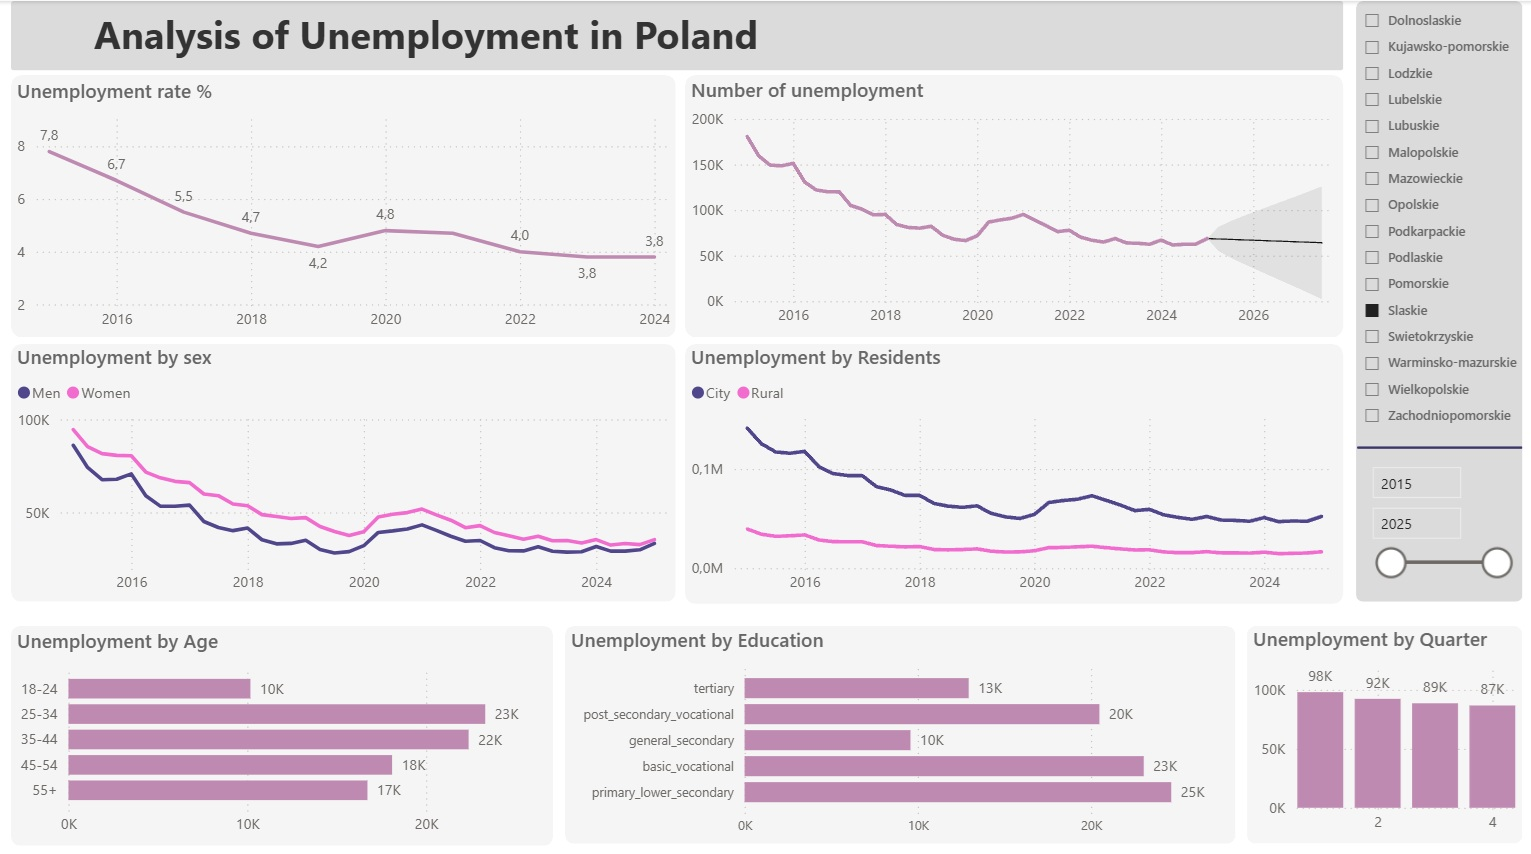

The dashboard page shown, as its layout file describes it:
{"tool":"powerbi","page":{"name":"Dashboard","canvas":[1280,720],"ordinal":0},"visuals":[{"type":"shape","box":[1132.7,0,139.1,501.8],"z":0},{"type":"shape","box":[9.1,521.8,452.7,183.6],"z":1000},{"type":"shape","box":[1041.8,521.8,230,181.8],"z":2000},{"type":"shape","box":[471.8,521.8,560,181.8],"z":3000},{"type":"shape","box":[9.1,0,1112.7,58.2],"z":4000},{"type":"shape","box":[571.9,62.1,549.8,219],"z":5000},{"type":"clusteredColumnChart","title":"Unemployment by Quarter","fields":{"Category":["General.quarter"],"Y":["Avg(General.total)"]},"box":[1041.8,521.8,229.1,181.8],"z":6000},{"type":"slicer","title":"Year","fields":{"Values":["Unemployed_age_unpivot.year"]},"box":[1133.6,379.1,138.2,124.5],"z":7000},{"type":"lineChart","title":"Number of unemployment","fields":{"Category":["General.QuarterEndDate.Variation.Date Hierarchy.Year","General.QuarterEndDate.Variation.Date Hierarchy.Quarter","General.QuarterEndDate.Variation.Date Hierarchy.Month","General.QuarterEndDate.Variation.Date Hierarchy.Day"],"Y":["Sum(General.total)"]},"box":[571.8,63.6,550,217.3],"z":8000},{"type":"shape","box":[9.1,286.4,555.5,215.5],"z":9000},{"type":"lineChart","title":"Unemployment by sex","fields":{"Category":["General.QuarterEndDate.Variation.Date Hierarchy.Year","General.QuarterEndDate.Variation.Date Hierarchy.Quarter","General.QuarterEndDate.Variation.Date Hierarchy.Month","General.QuarterEndDate.Variation.Date Hierarchy.Day"],"Y":["Sum(General.men)","Sum(General.women)"]},"box":[9.1,286.4,555.5,217.3],"z":10000},{"type":"textbox","box":[73.5,0,796.1,58.3],"z":11000},{"type":"slicer","title":"Voivodeship","fields":{"Values":["General.Region"]},"box":[1127.3,0,150,362.7],"z":12000},{"type":"clusteredBarChart","title":"Unemployment by Age","fields":{"Category":["Unemployed_age_unpivot.age_group"],"Y":["Avg(Unemployed_age_unpivot.numb_of_unemployed)"]},"box":[9.1,523.6,452.7,181.8],"z":13000},{"type":"shape","box":[9.1,61.8,555.5,219.1],"z":14000},{"type":"lineChart","title":"Unemployment rate %","fields":{"Category":["unemployment_2015_2022.year"],"Y":["Sum(unemployment_2015_2022.unemployment_rate)"]},"box":[9.1,64.5,555.5,219.1],"z":15000},{"type":"shape","box":[571.9,286.4,549.8,217.2],"z":16000},{"type":"lineChart","title":"Unemployment by Residents","fields":{"Category":["General.QuarterEndDate.Variation.Date Hierarchy.Year","General.QuarterEndDate.Variation.Date Hierarchy.Quarter","General.QuarterEndDate.Variation.Date Hierarchy.Month","General.QuarterEndDate.Variation.Date Hierarchy.Day"],"Y":["Sum(General.city_residents)","Sum(General.rural_residents)"]},"box":[571.9,286.4,549.8,217.2],"z":17000},{"type":"clusteredBarChart","title":"Unemployment by Education","fields":{"Category":["Unemployed_education_unpivot.education"],"Y":["Avg(Unemployed_education_unpivot.numb_of_unemployed)"]},"box":[471.8,522.7,560,183.6],"z":18000},{"type":"shape","box":[1133.6,366.4,138.2,12.7],"z":19000}]}

Visuals, with their boxes in screenshot pixels (x1, y1, x2, y2), scaled from the page's 1280x720 canvas onto the 1531x854 screenshot:
shape: 1355 0 1521 595
shape: 11 619 552 837
shape: 1246 619 1521 835
shape: 564 619 1234 835
shape: 11 0 1342 69
shape: 684 74 1342 333
"Unemployment by Quarter" clusteredColumnChart: 1246 619 1520 835
"Year" slicer: 1356 450 1521 597
"Number of unemployment" lineChart: 684 75 1342 333
shape: 11 340 675 595
"Unemployment by sex" lineChart: 11 340 675 597
textbox: 88 0 1040 69
"Voivodeship" slicer: 1348 0 1528 430
"Unemployment by Age" clusteredBarChart: 11 621 552 837
shape: 11 73 675 333
"Unemployment rate %" lineChart: 11 77 675 336
shape: 684 340 1342 597
"Unemployment by Residents" lineChart: 684 340 1342 597
"Unemployment by Education" clusteredBarChart: 564 620 1234 838
shape: 1356 435 1521 450
